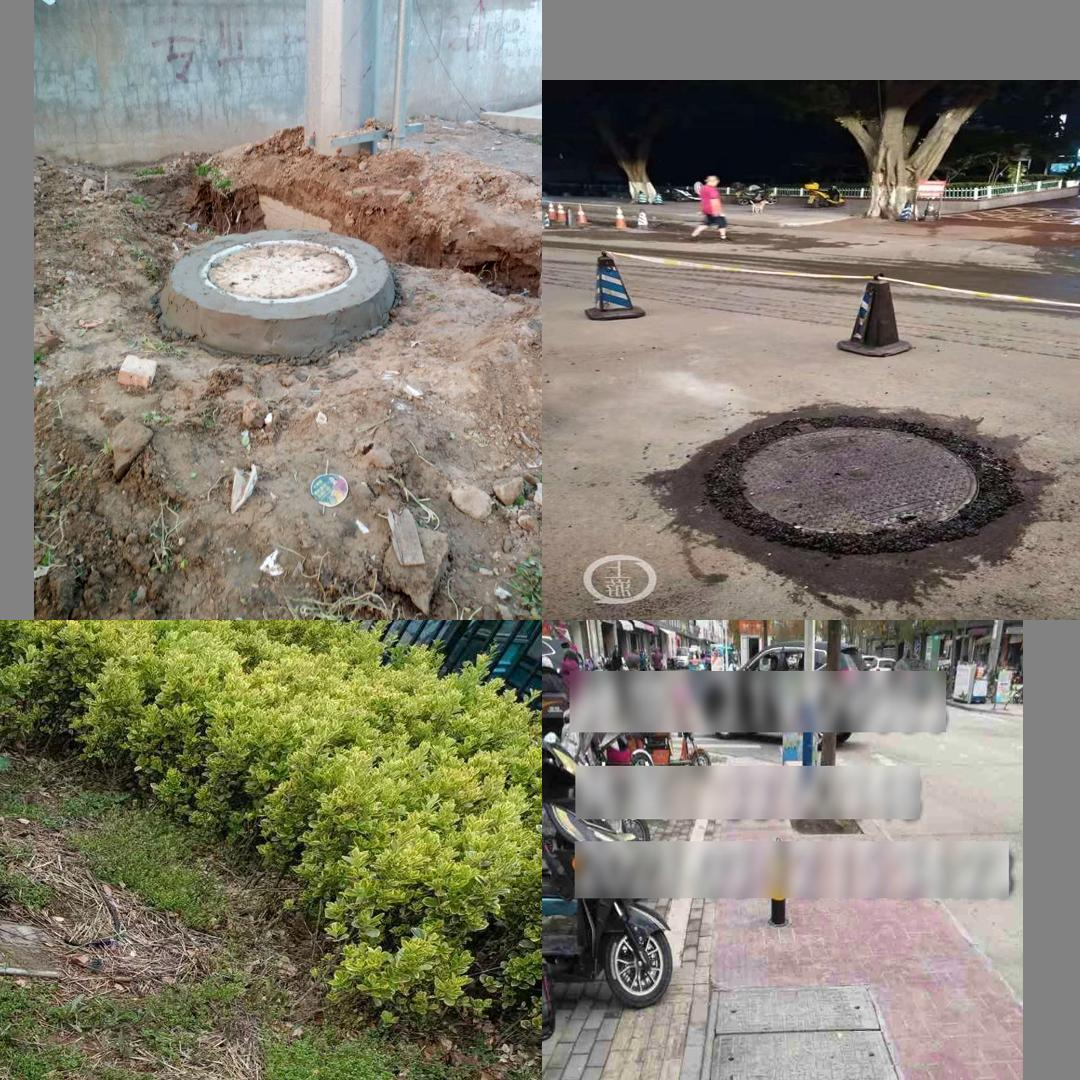good: (661, 397, 1048, 592), (693, 972, 922, 1080), (200, 237, 357, 302)
